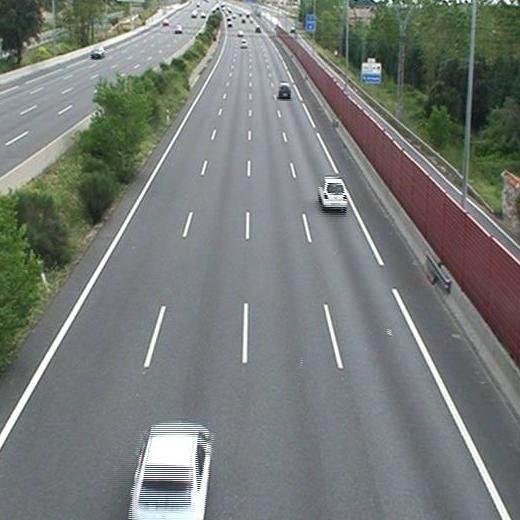car: (128, 424, 213, 520), (319, 178, 347, 208), (278, 84, 292, 98), (240, 40, 247, 48)
